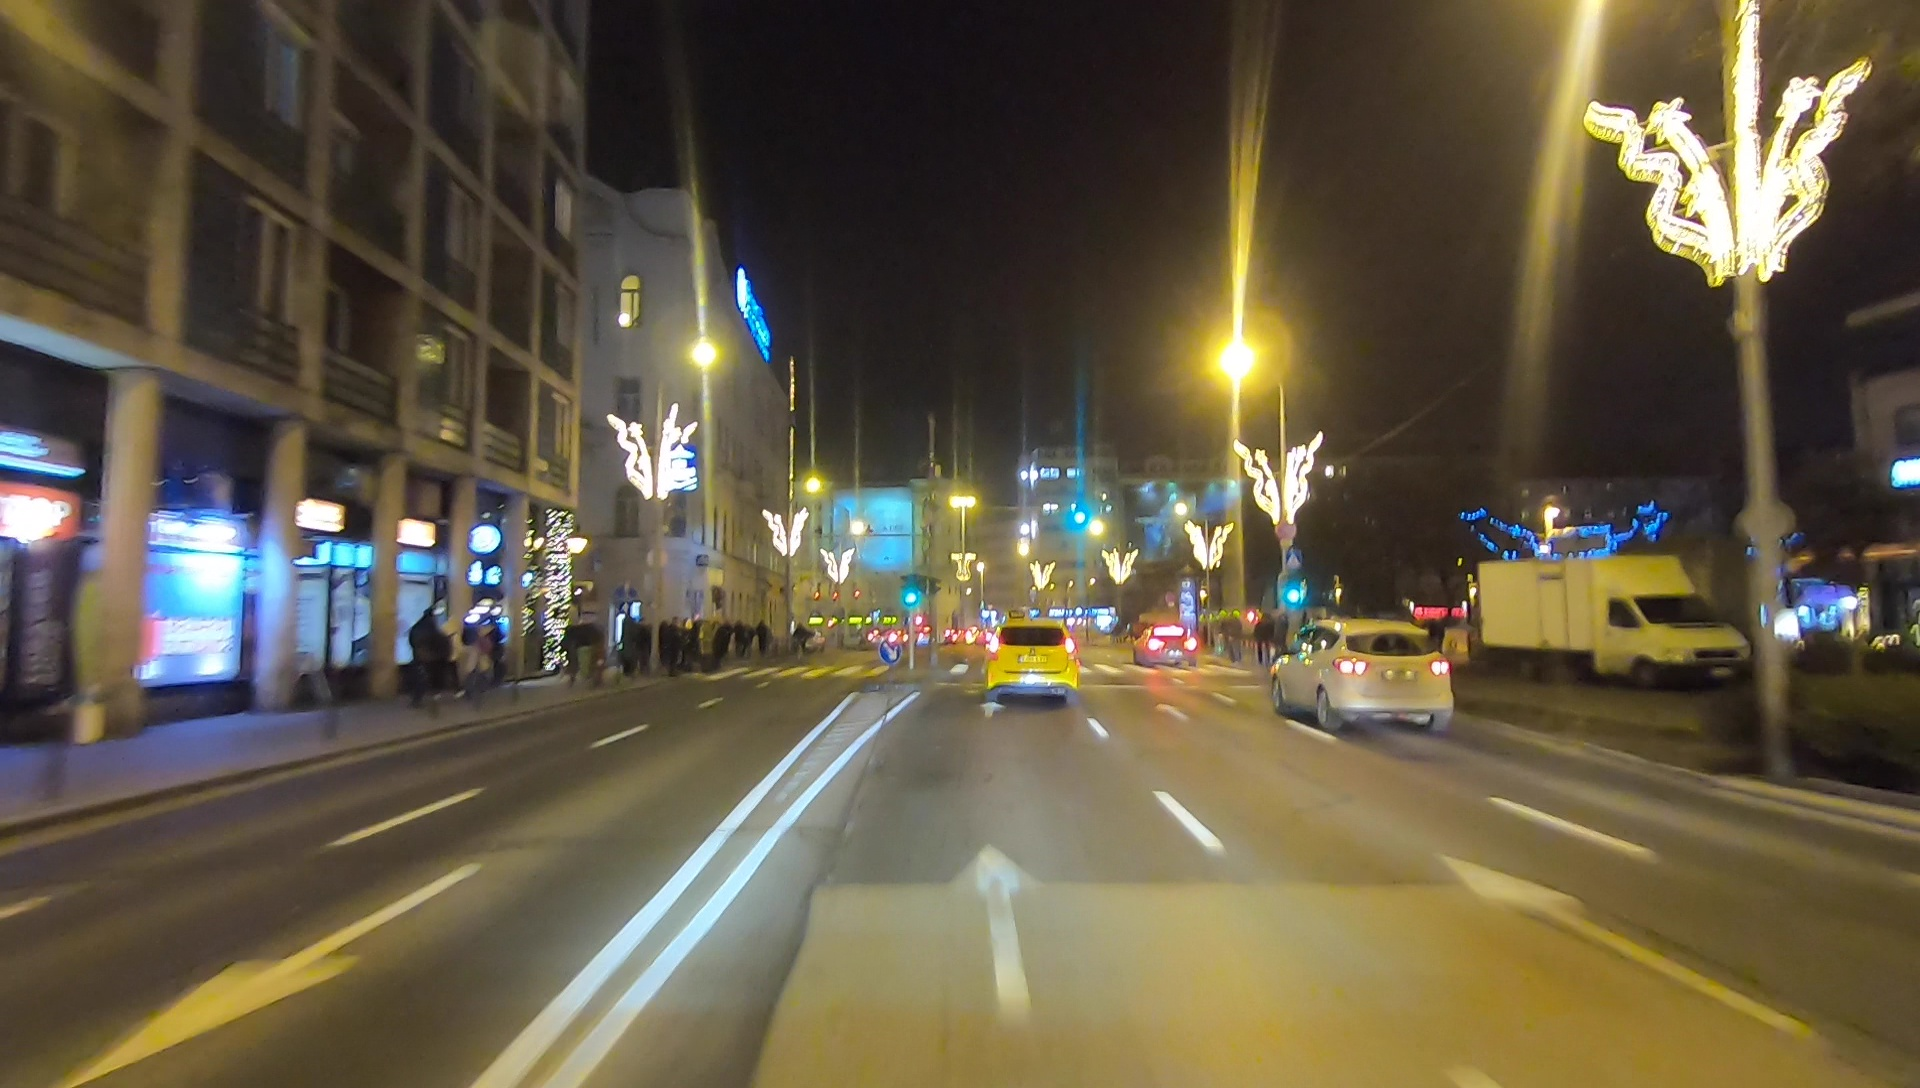person: (406, 617, 441, 708), (458, 621, 489, 699), (558, 613, 588, 689), (619, 617, 641, 674), (676, 615, 697, 673), (638, 615, 656, 680), (656, 615, 675, 671)
